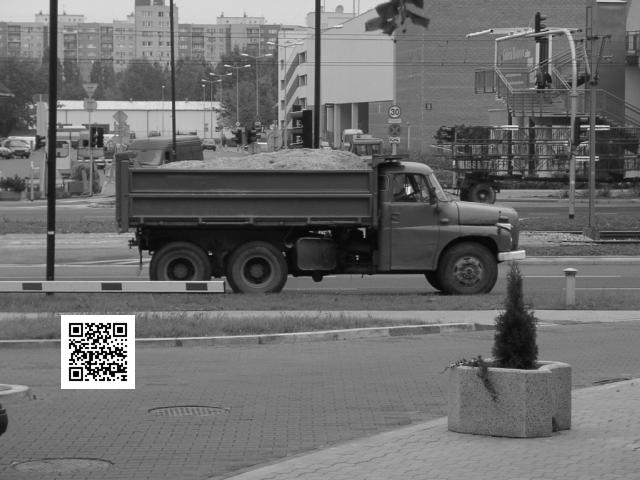qr_code: (60, 316, 135, 388)
